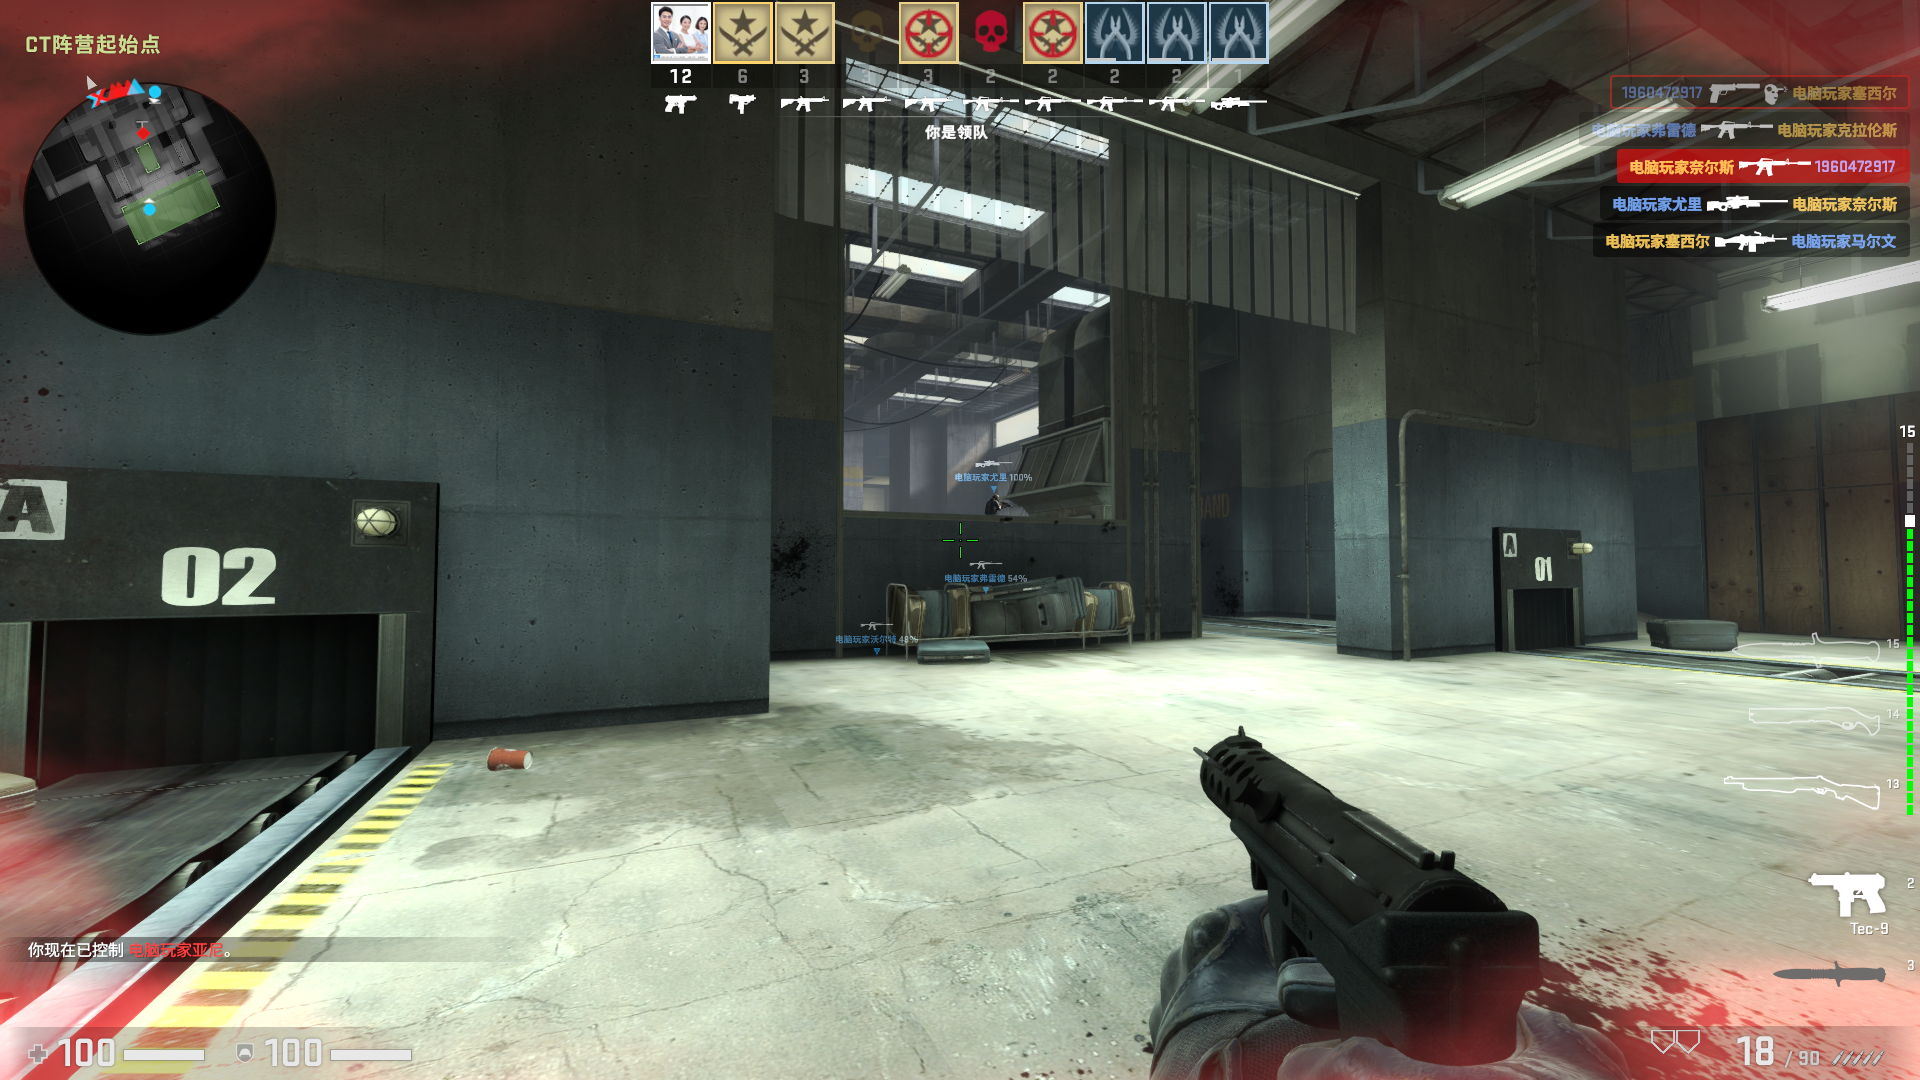person: (983, 484, 1002, 513)
